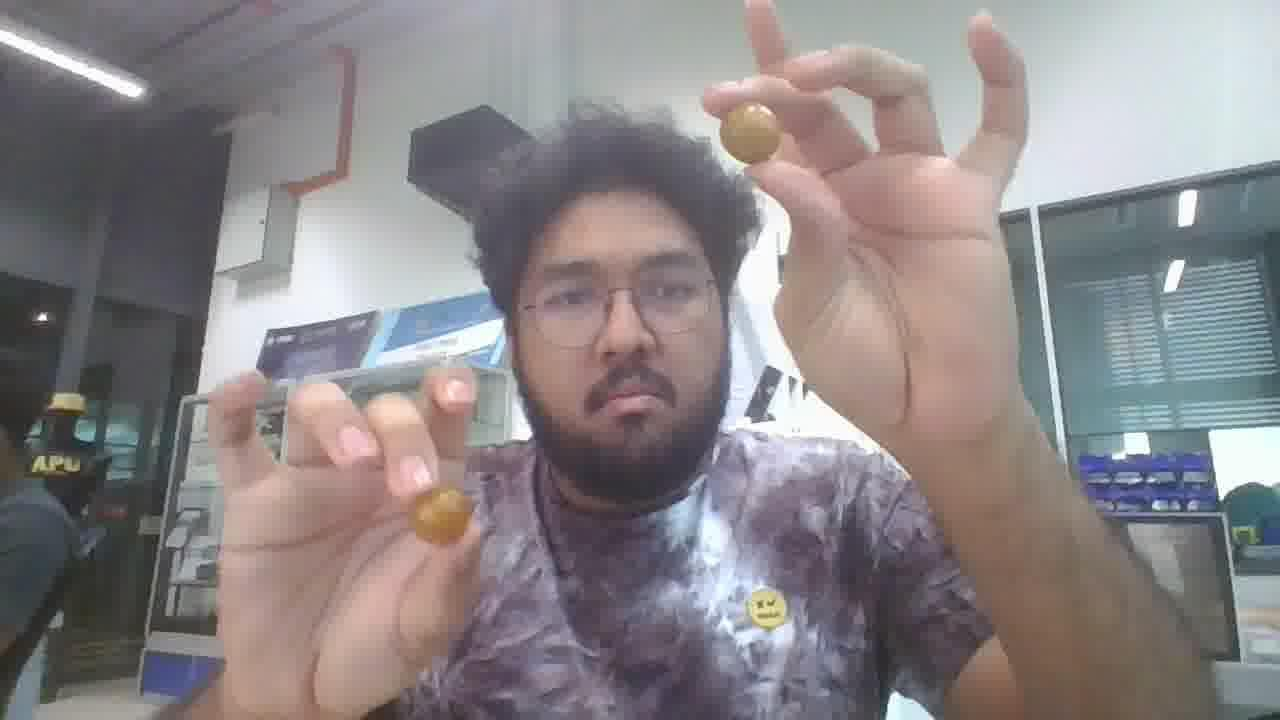yellow_cherry_tomato: (719, 103, 781, 164), (410, 485, 473, 543)
